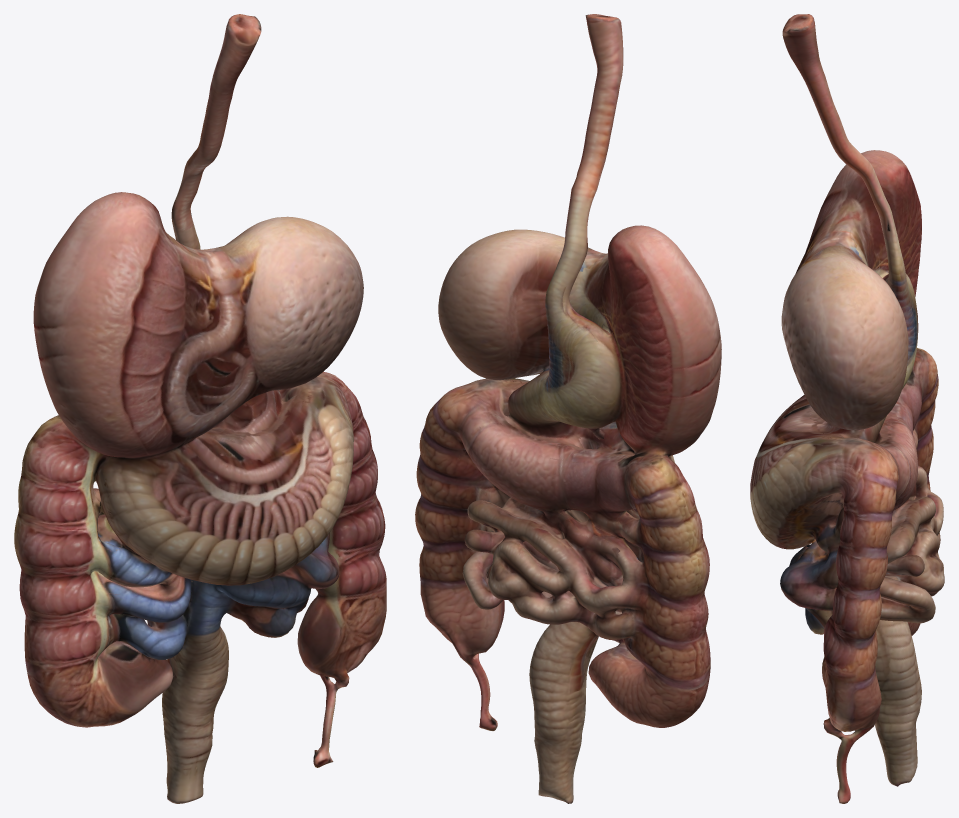
The model's file is ajayurinal.glb.
3 views of the same model, side by side, from view 1: azimuth 30°, elevation 25°; view 2: azimuth 150°, elevation 25°; view 3: azimuth 270°, elevation 25° (orthographic). The views are drawn at different scales.
Parts seen in each view (by area): view 1: Stylized Digestive System; view 2: Stylized Digestive System; view 3: Stylized Digestive System.
Boxes of the visible parts, bbox=[...] form: Stylized Digestive System: bbox=[14, 14, 386, 803]; Stylized Digestive System: bbox=[415, 14, 721, 803]; Stylized Digestive System: bbox=[750, 14, 944, 803].
Size of the model in its own units: 0.3296 by 0.761 by 0.1754.
1 material, 1 textured.
